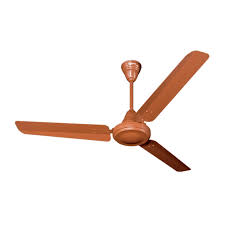CeilingFan: (16, 53, 206, 171)
